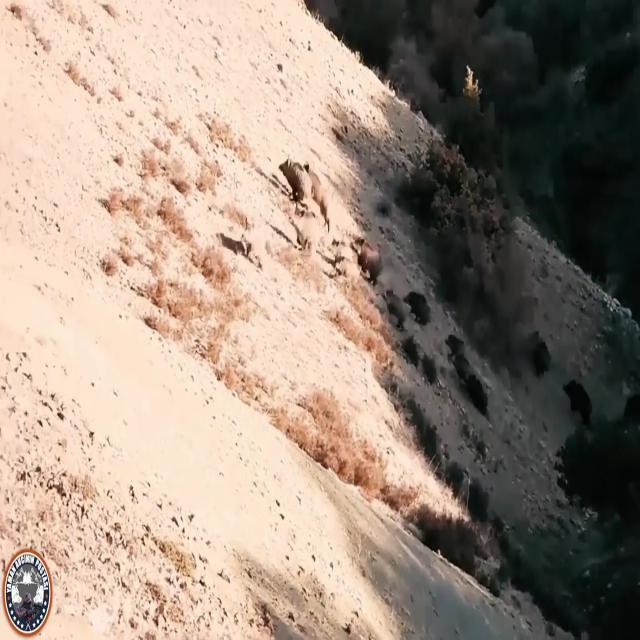pig: (272, 126, 338, 242), (442, 313, 498, 430), (356, 212, 392, 298), (403, 262, 431, 318)
